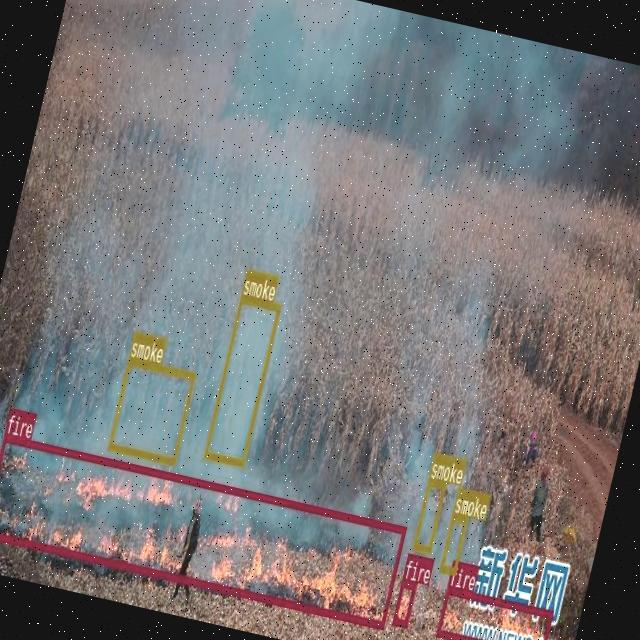fire: (0, 433, 405, 628), (435, 585, 552, 640), (392, 578, 416, 626)
smoke: (202, 294, 280, 466), (106, 356, 196, 464), (412, 477, 446, 551), (439, 512, 468, 572)
